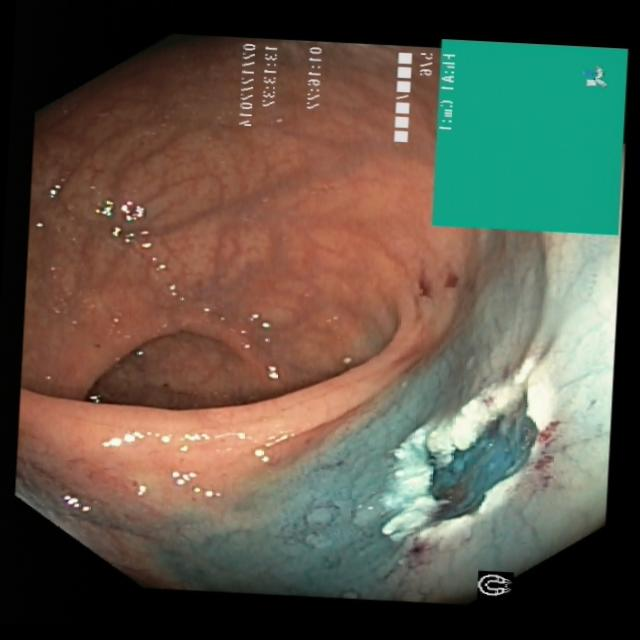dyed-resection-margins: (372, 355, 568, 595)
